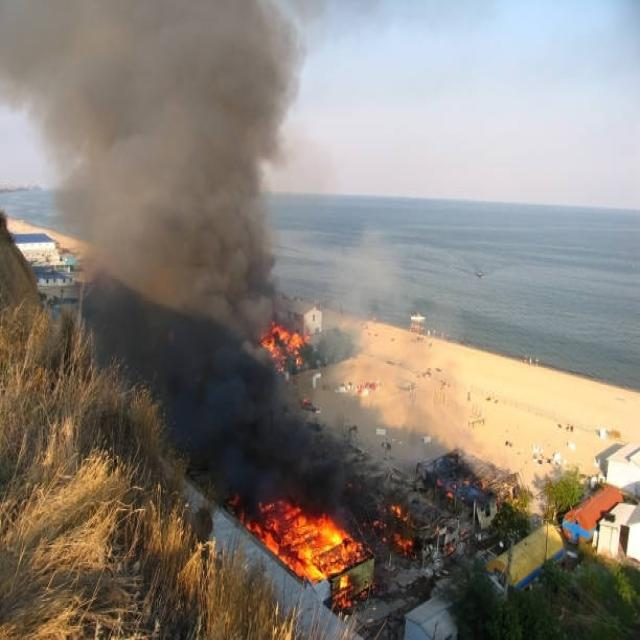Fire: (243, 497, 360, 609), (255, 324, 309, 374)
Smoke: (43, 0, 358, 528)
